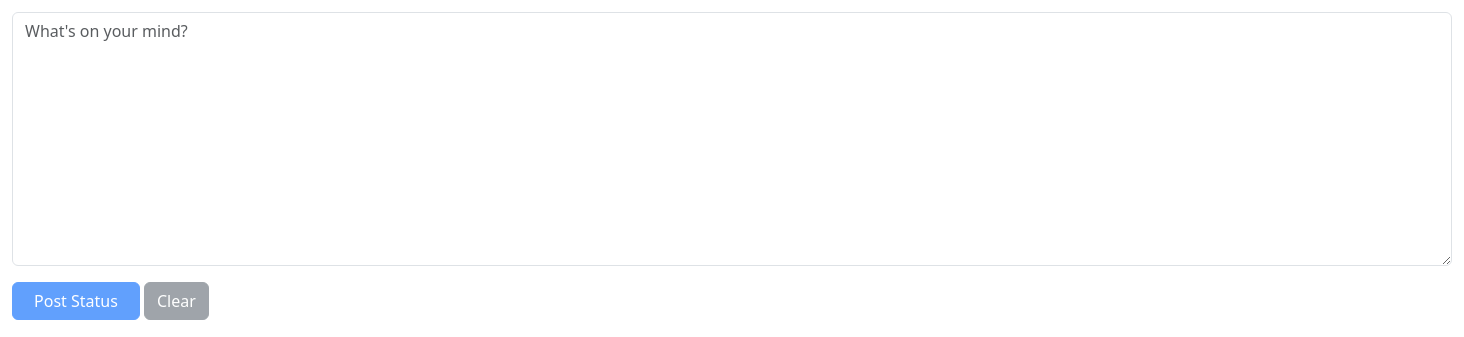
Test: Post Status Component › disables both buttons when the text field is cleared
Type "a" into the text box named "post". click: (732, 139)
box: x1=12 y1=12 x2=1452 y2=266
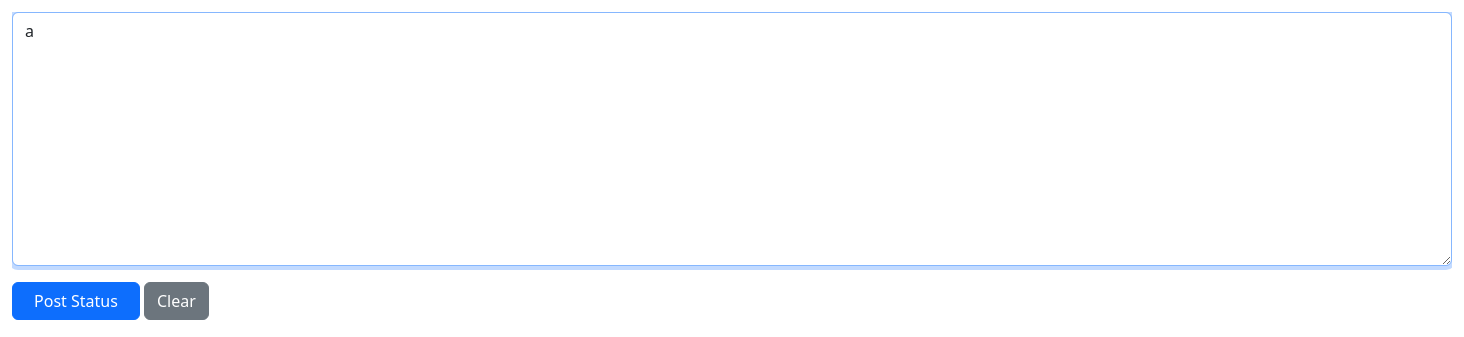
Check: the button "Post Status" is enabled, box x1=12 y1=282 x2=140 y2=320
Check: the button "Clear" is enabled, box x1=144 y1=282 x2=209 y2=320
Clear the text box named "post". click: (732, 139)
box: x1=12 y1=12 x2=1452 y2=266
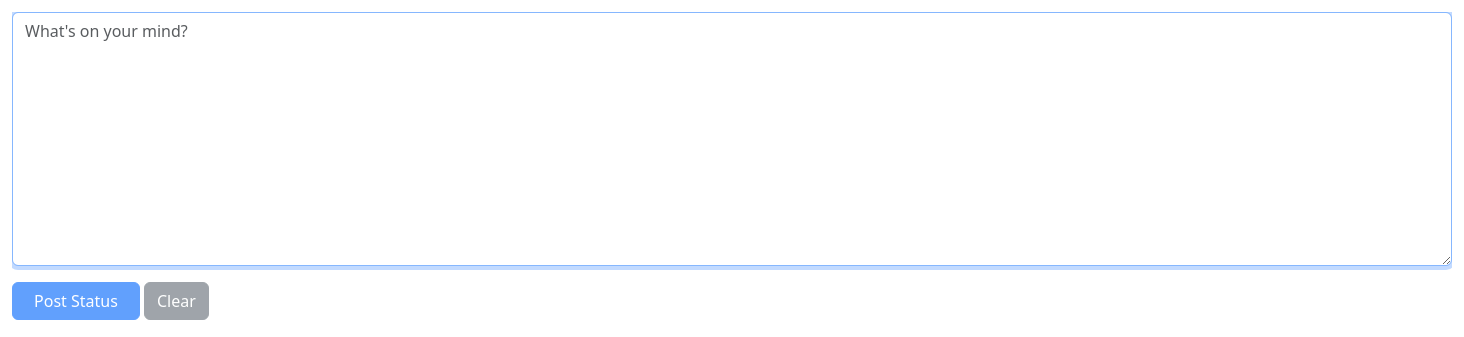
Check: the button "Post Status" is disabled, box x1=12 y1=282 x2=140 y2=320
Check: the button "Clear" is disabled, box x1=144 y1=282 x2=209 y2=320
